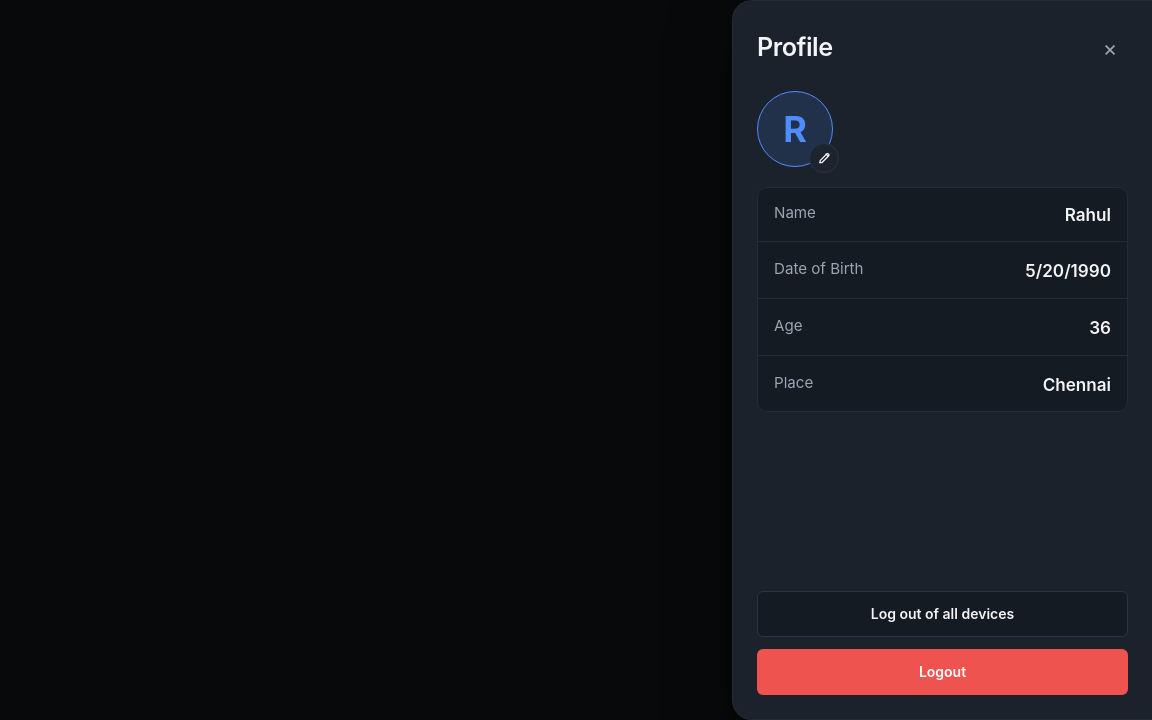
Test case: ProfileDialog › editing the profile › pre-fills the form with the current details
Click the button named "Edit profile" at (824, 158), box [809,143,839,173]
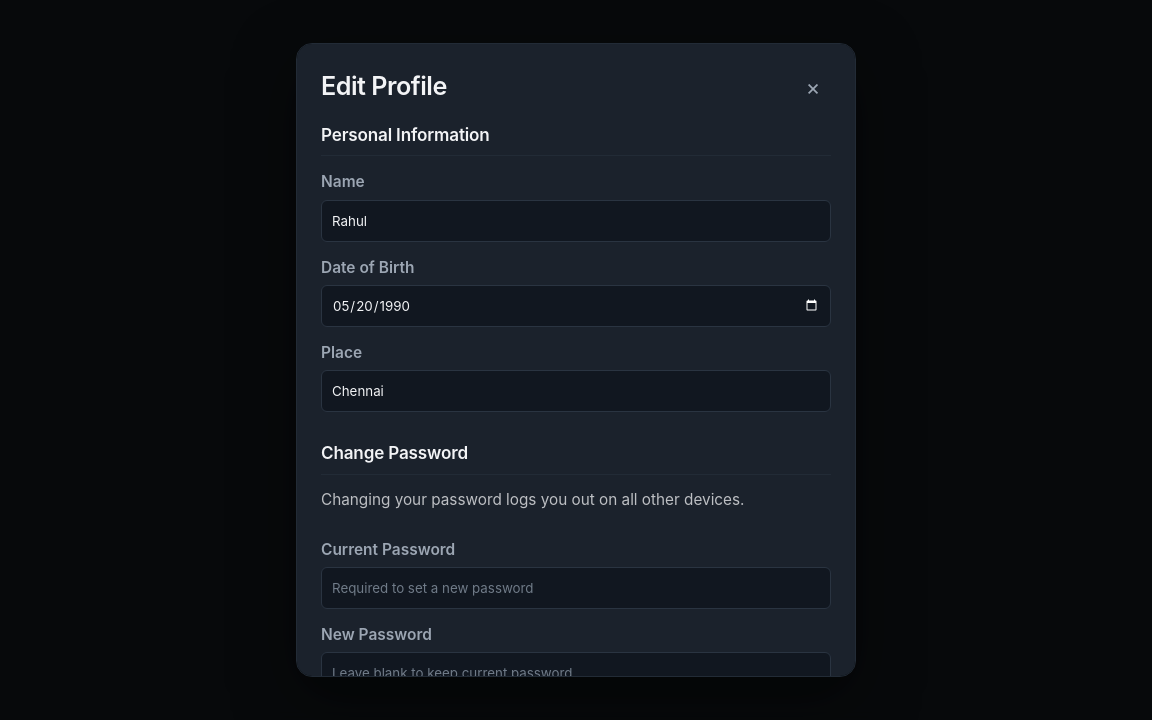
Now the field labelled "Name" holds "Rahul", box [321,200,831,242]
Now the date field labelled "Date of Birth" holds "1990-05-20", box [321,285,831,327]
Now the field labelled "Place" holds "Chennai", box [321,370,831,412]
